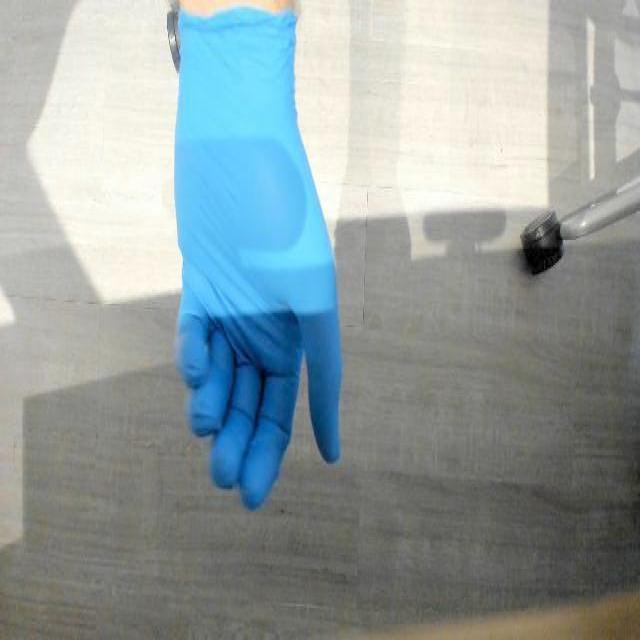Gloves: (169, 3, 344, 510)
